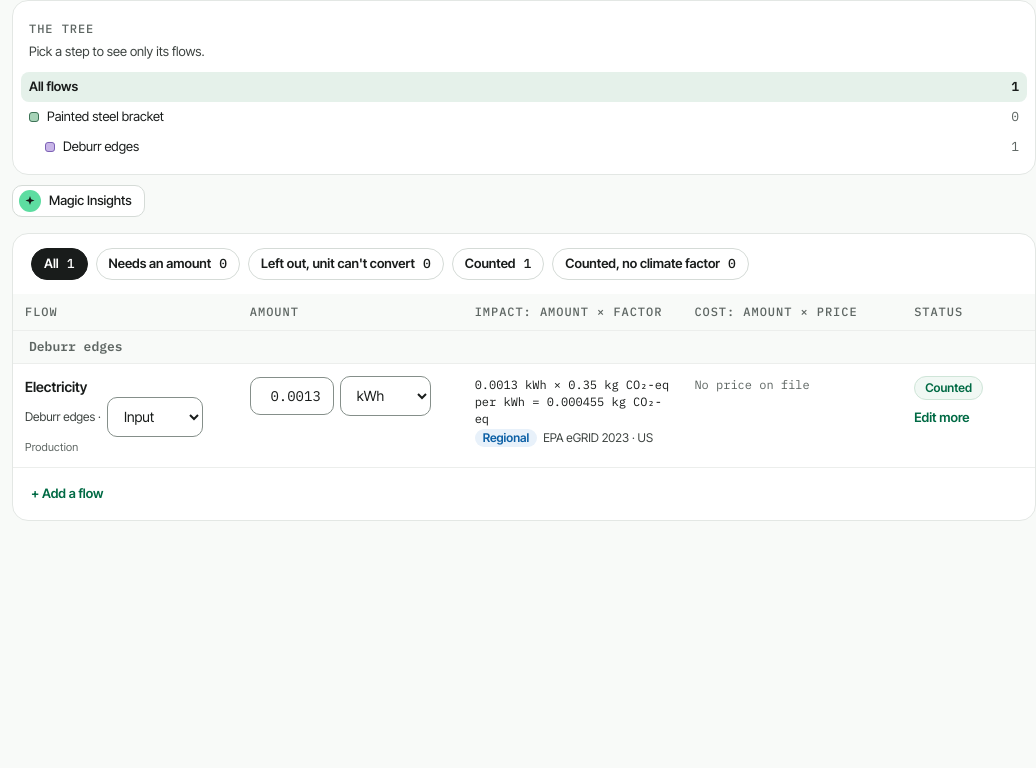
Scenario: the amount box › a new amount is saved by Save only, and the Saved line names it
Replace the text in the field named "Electricity, amount in kWh" with "0.002". click: x=292, y=396
box: [250,376,334,414]
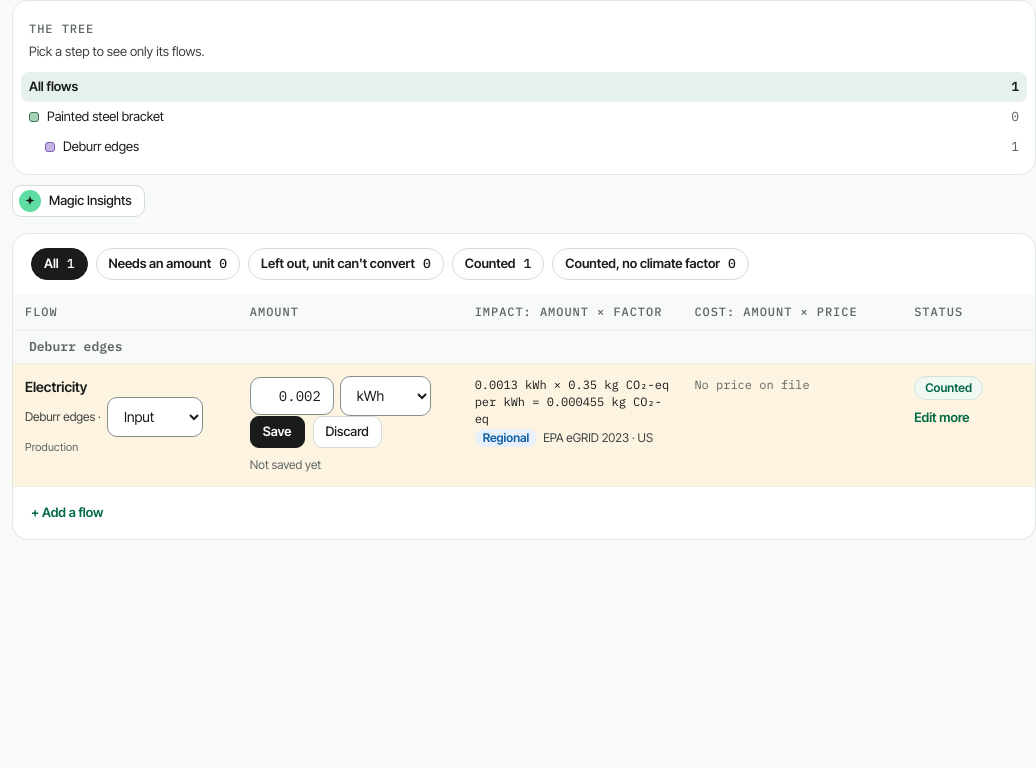
Now the text "Not saved yet" is shown, box [250,456,321,474]
Click the button with aria-label "Save Electricity on Deburr edges". click: x=277, y=432
box: [250,416,304,448]
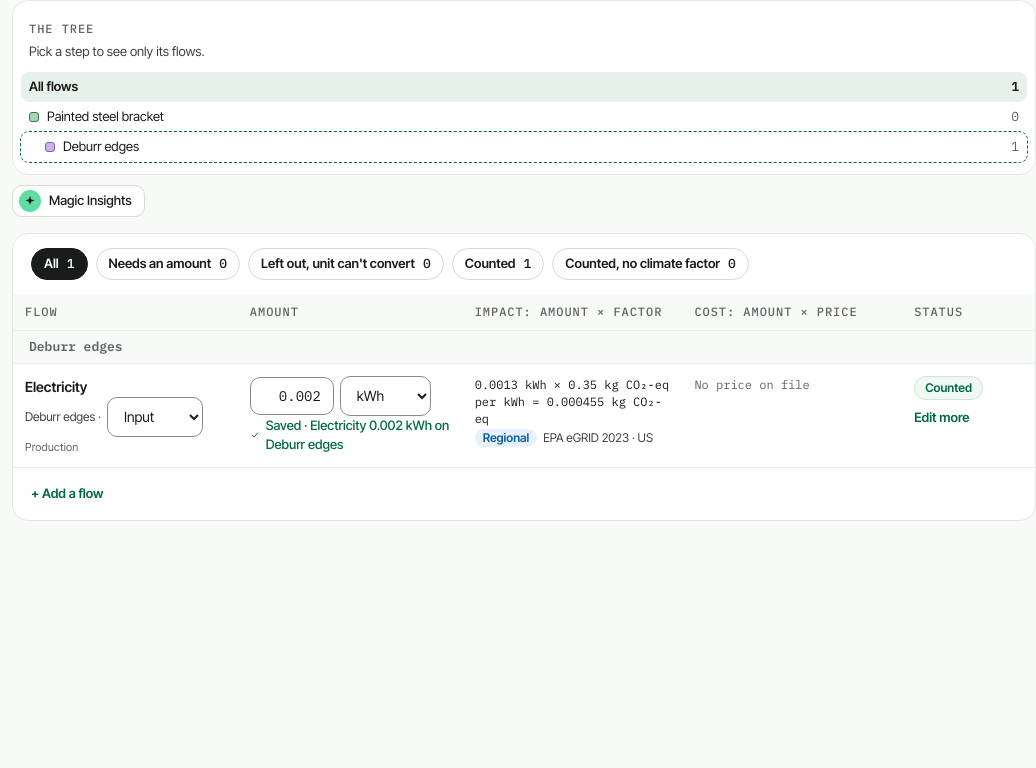
Now the text "Saved · Electricity 0.002 kWh on Deburr edges" is shown, box [266,416,451,454]
